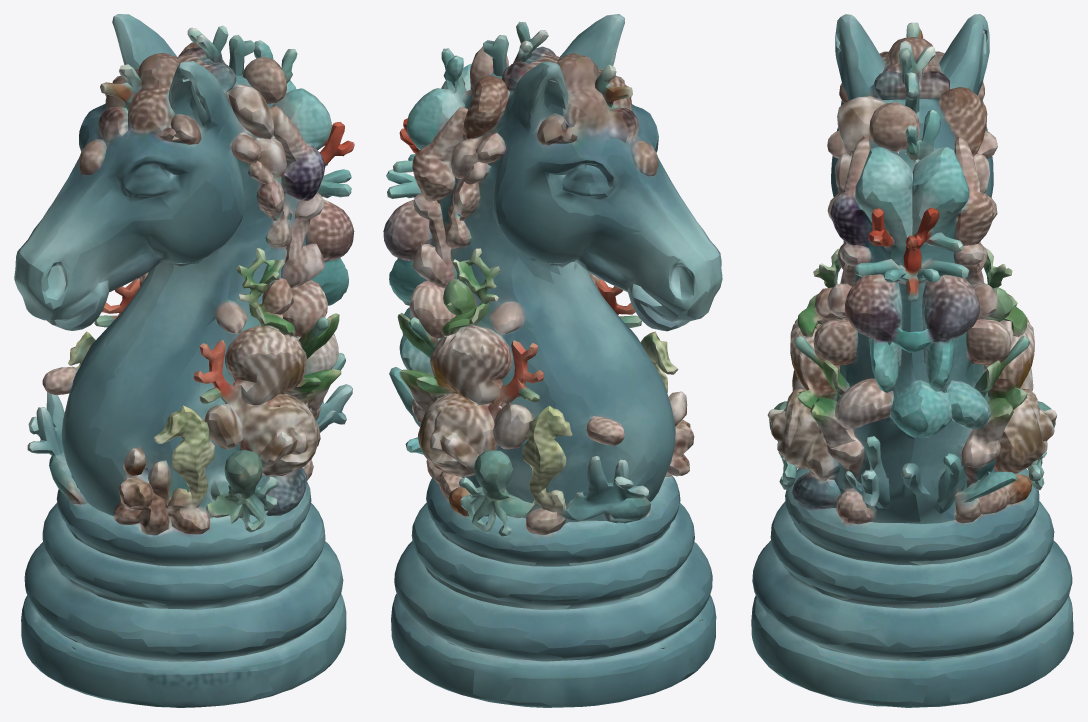
3 views of the same model, side by side, from view 1: azimuth 30°, elevation 25°; view 2: azimuth 150°, elevation 25°; view 3: azimuth 270°, elevation 25° (orthographic).
Visible parts, largest first — view 1: world; view 2: world; view 3: world.
Part boxes in pixels (x1,y1,x2,y2): world: [14, 14, 354, 707]; world: [383, 14, 722, 707]; world: [751, 14, 1073, 707].
Bounding box in the file's own units: 0.0981 × 0.18 × 0.086.
Materials: 1 (1 with a texture image).
